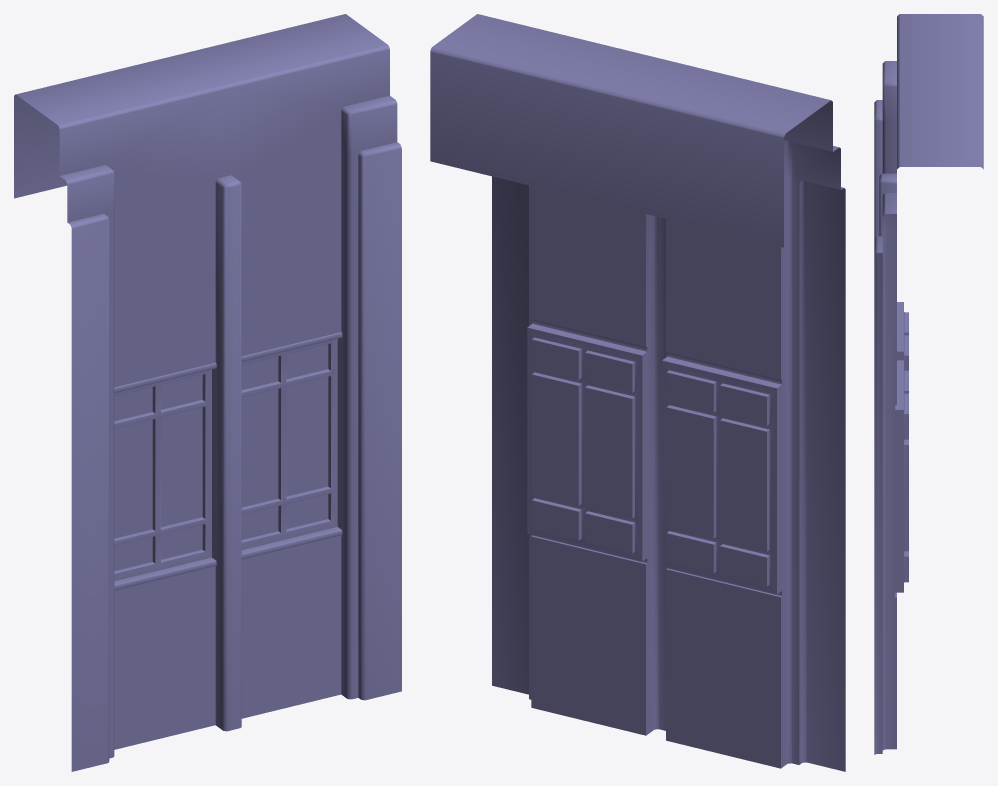
File: M_A_window_07.fbx
The picture shows the model from 3 angles, left to right: view 1: azimuth 30°, elevation 25°; view 2: azimuth 150°, elevation 25°; view 3: azimuth 270°, elevation 25°; orthographic projection. The views are drawn at different scales.
Visible parts, largest first — view 1: M_A_window_07; view 2: M_A_window_07; view 3: M_A_window_07.
Boxes of the visible parts, x1,y1,x2,y2 form: M_A_window_07: (14, 14, 401, 771); M_A_window_07: (430, 14, 845, 771); M_A_window_07: (874, 14, 983, 754).
Bounding box in the file's own units: 200 × 369 × 60.44.
